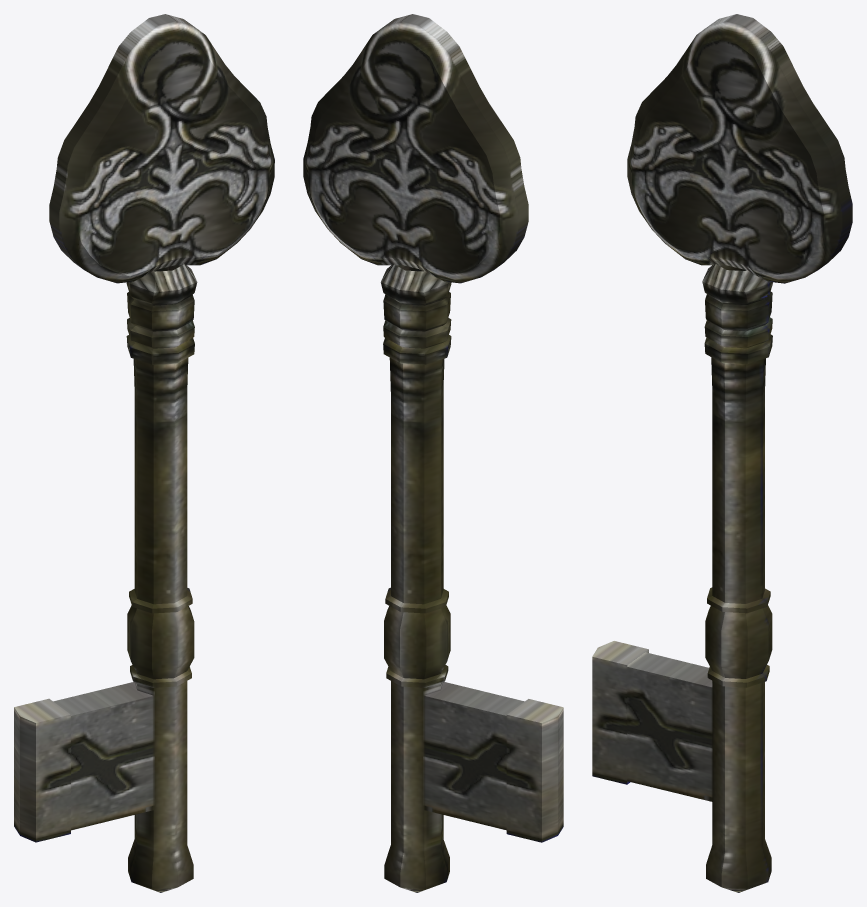
File: PAST-Key2.fbx
3 views of the same model, side by side, from view 1: azimuth 30°, elevation 25°; view 2: azimuth 150°, elevation 25°; view 3: azimuth 330°, elevation 25° (orthographic).
Visible parts, largest first — view 1: Key2; view 2: Key2; view 3: Key2.
Part boxes in pixels (bbox=[...]): Key2: bbox=[14, 14, 274, 892]; Key2: bbox=[303, 14, 563, 892]; Key2: bbox=[592, 14, 852, 892].
Bounding box in the file's own units: 1.19 × 3.98 × 0.3025.
Materials: 1 (1 with a texture image).
